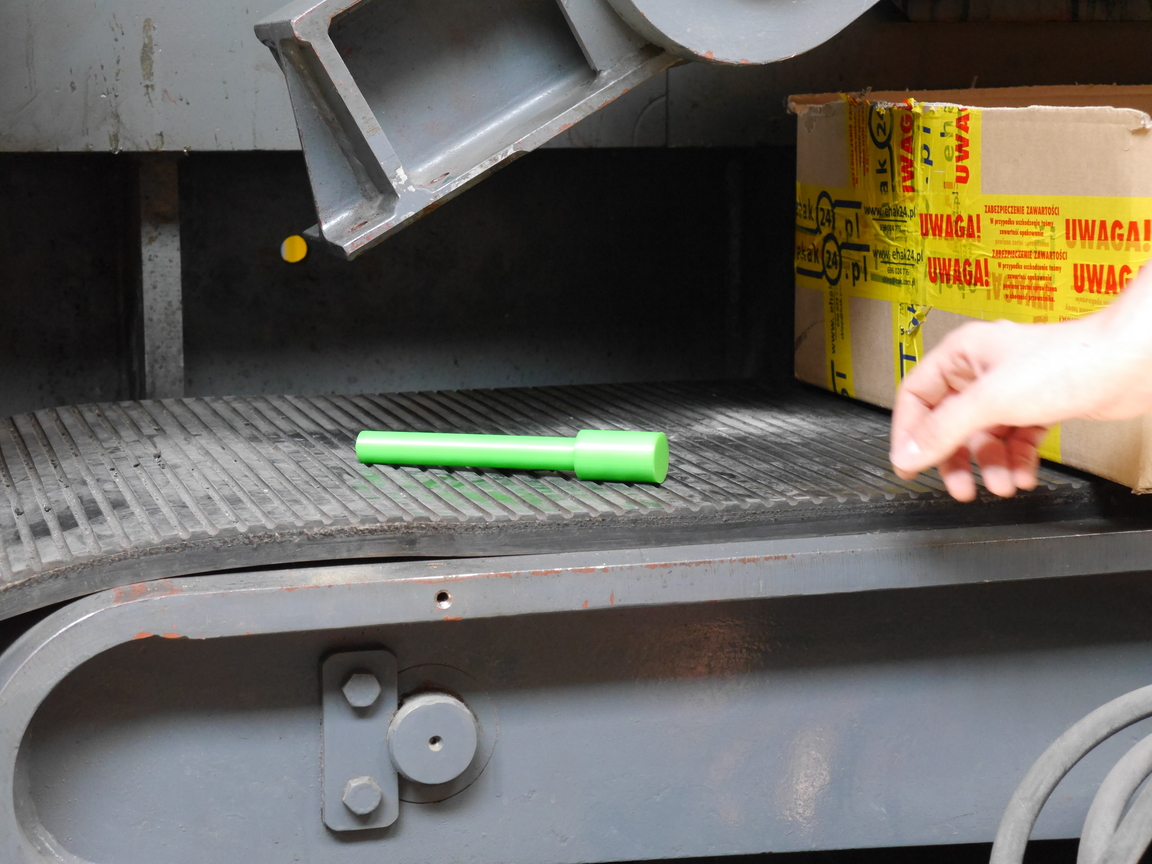cargo_g: (349, 427, 671, 487)
